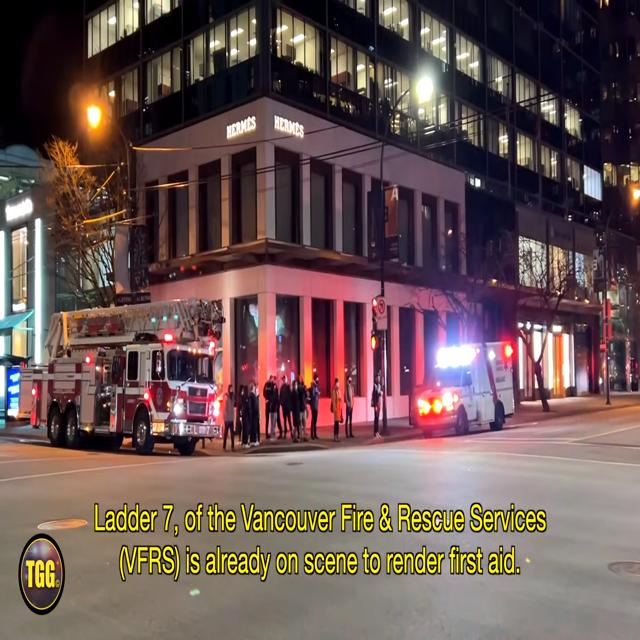emergency-vehicles: (20, 320, 227, 468), (404, 334, 526, 440)
